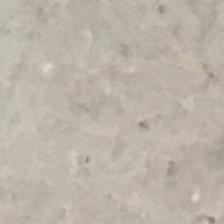Non_Crack: (13, 30, 223, 224)
